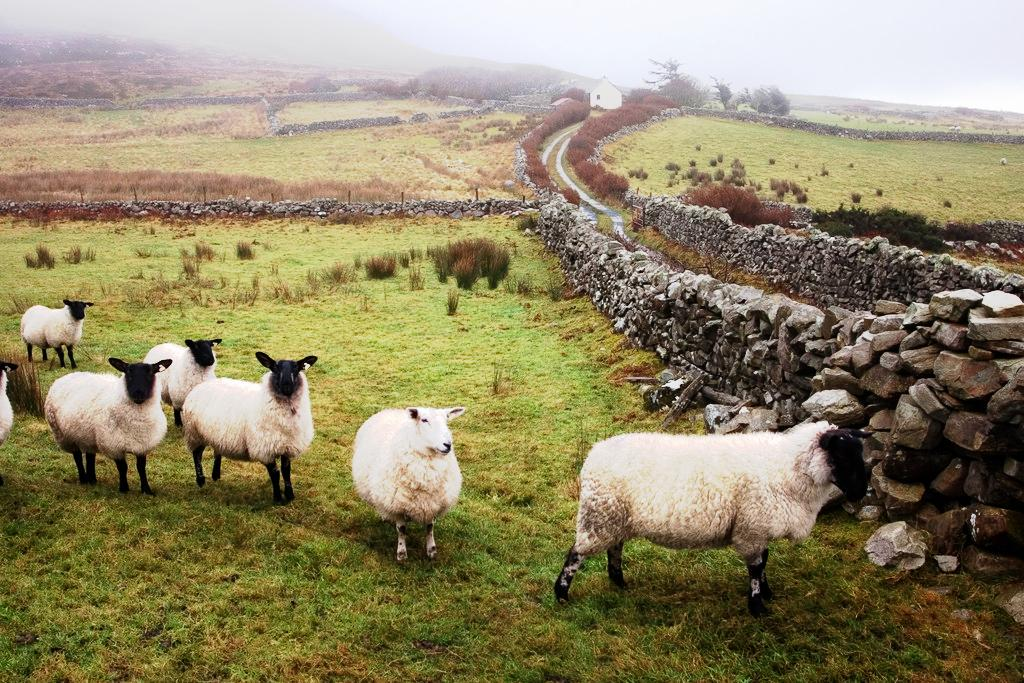Sheep: (552, 419, 873, 622), (180, 351, 318, 503), (37, 352, 175, 493), (351, 396, 466, 565), (143, 335, 227, 438), (21, 294, 95, 369)
